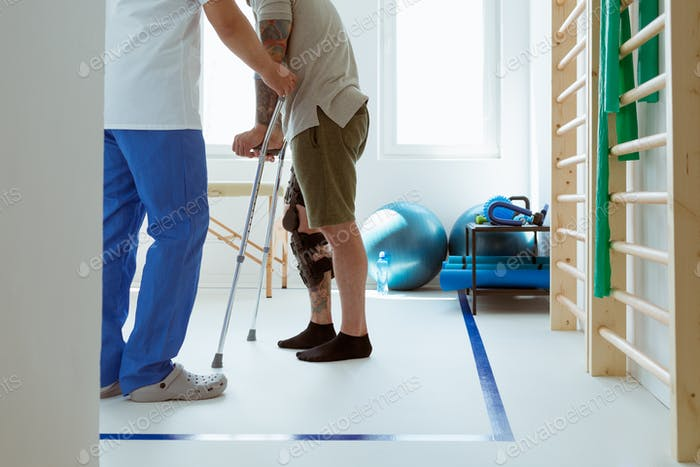crutches: (210, 1, 371, 370)
